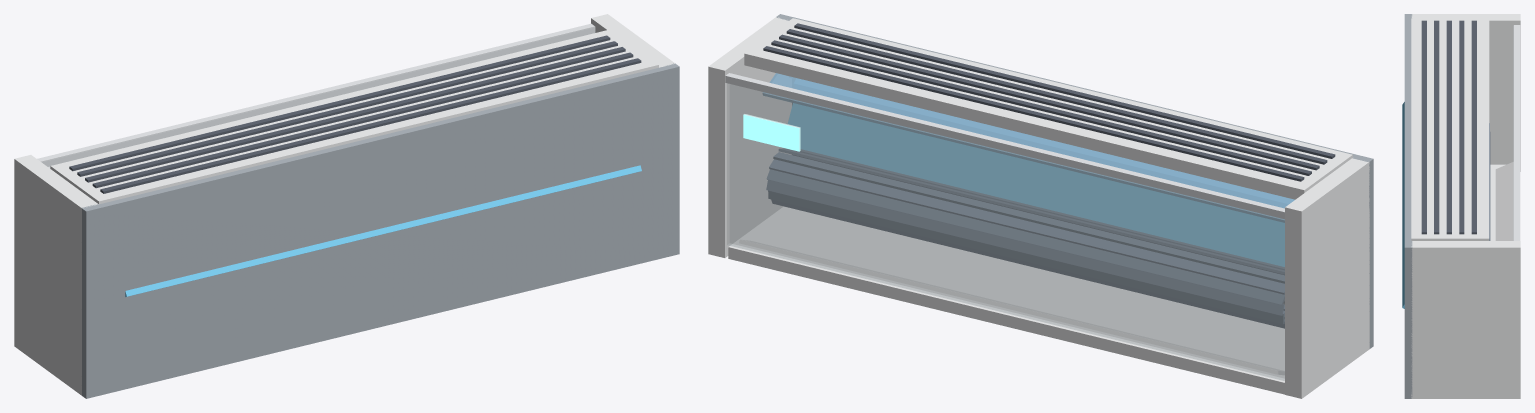
File: ac-split-wall.glb
3 renders of one model, left to right at view 1: azimuth 30°, elevation 25°; view 2: azimuth 150°, elevation 25°; view 3: azimuth 270°, elevation 25°, orthographic. The views are drawn at different scales.
Visible parts, largest first — view 1: BackPlate, TopHood, SideCap_Left, TrimTop, EvaporatorCoil_Back, FrontCutawayWindow, IntakeSlat_0, IntakeSlat_1, IntakeSlat_4, IntakeSlat_2, IntakeSlat_3, SideCap_Right; view 2: FrontCutawayWindow, BottomDrainTray, EvaporatorCoil_Front, TopHood, SideCap_Left, SideCap_Right, AirFilter, TrimTop, FanBlade_1, FanBlade_2, FanBlade_0, FanBlade_3 (+12 smaller); view 3: SideCap_Right, TopHood, SideCap_Left, BackPlate, TrimTop, LouverVane, IntakeSlat_0, IntakeSlat_1, IntakeSlat_2, IntakeSlat_3, IntakeSlat_4, EvaporatorCoil_Back (+2 smaller).
Part boxes in pixels (<box>): BackPlate: <box>82,63,679,398</box>; TopHood: <box>50,29,658,204</box>; SideCap_Left: <box>14,155,98,395</box>; TrimTop: <box>37,23,595,166</box>; EvaporatorCoil_Back: <box>125,165,641,296</box>; FrontCutawayWindow: <box>42,27,595,167</box>; IntakeSlat_0: <box>100,58,641,193</box>; IntakeSlat_1: <box>92,52,633,188</box>; IntakeSlat_4: <box>69,35,610,171</box>; IntakeSlat_2: <box>85,47,625,182</box>; IntakeSlat_3: <box>77,41,617,176</box>; SideCap_Right: <box>591,14,674,67</box>; FrontCutawayWindow: <box>727,83,1284,380</box>; BottomDrainTray: <box>728,206,1284,394</box>; EvaporatorCoil_Front: <box>787,103,1284,266</box>; TopHood: <box>744,18,1352,199</box>; SideCap_Left: <box>1285,158,1369,398</box>; SideCap_Right: <box>708,17,791,257</box>; AirFilter: <box>762,73,1294,222</box>; TrimTop: <box>725,73,1284,219</box>; FanBlade_1: <box>766,169,1284,305</box>; FanBlade_2: <box>769,159,1284,294</box>; FanBlade_0: <box>766,180,1284,315</box>; FanBlade_3: <box>773,152,1284,283</box>; SideCap_Right: <box>1411,241,1520,398</box>; TopHood: <box>1411,18,1489,240</box>; SideCap_Left: <box>1411,14,1520,171</box>; BackPlate: <box>1404,14,1412,398</box>; TrimTop: <box>1514,25,1520,240</box>; LouverVane: <box>1495,161,1513,240</box>; IntakeSlat_0: <box>1421,20,1426,234</box>; IntakeSlat_1: <box>1434,20,1439,234</box>; IntakeSlat_2: <box>1446,20,1451,234</box>; IntakeSlat_3: <box>1459,20,1464,234</box>; IntakeSlat_4: <box>1471,20,1476,234</box>; EvaporatorCoil_Back: <box>1402,102,1404,308</box>.
Bounding box in the file's own units: 1.06 × 0.334 × 0.2271.
